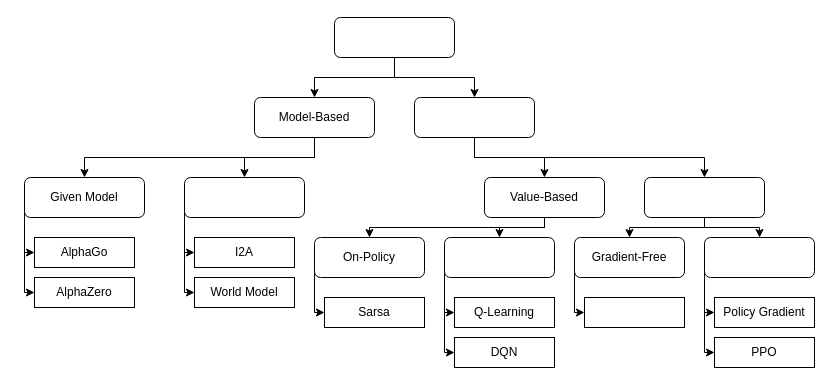
This 832x385 diagram has some shape labels left out. Each missing label, with the centre of its shape:
"Gradient-Based" goes at (x=759, y=257).
"Learn Model" goes at (x=244, y=197).
"Model-Free" goes at (x=474, y=117).
"Off-Policy" goes at (x=499, y=257).
"Policy-Based" goes at (x=704, y=197).
"RL Algorithms" goes at (x=394, y=37).
"SAMUEL" goes at (x=634, y=312).
